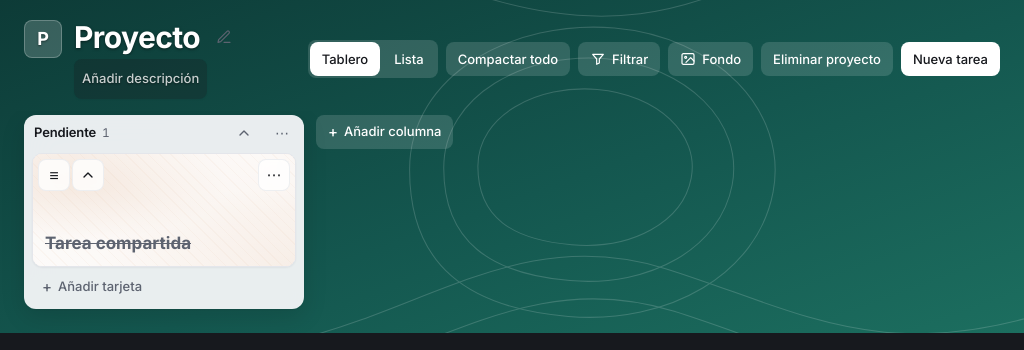
Scenario: ProyectoDetalle › alterna entre Tablero y Lista y guarda la elección por proyecto
This screenshot has width=1024, height=350.
expect the text "Tarea compartida" is shown: met, box [45,233,191,255]
Click the radio button labelled "Lista" at (409, 59), box [382,42,436,76]
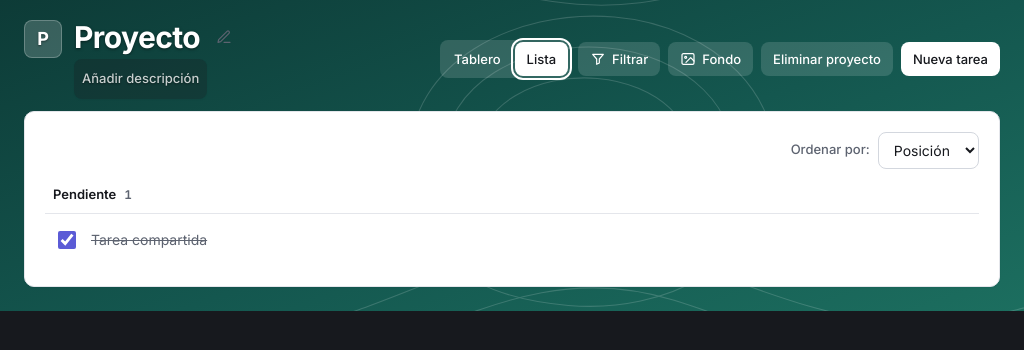
expect the element with class "lista-tareas__panel" is shown: met, box [24,110,1000,286]
